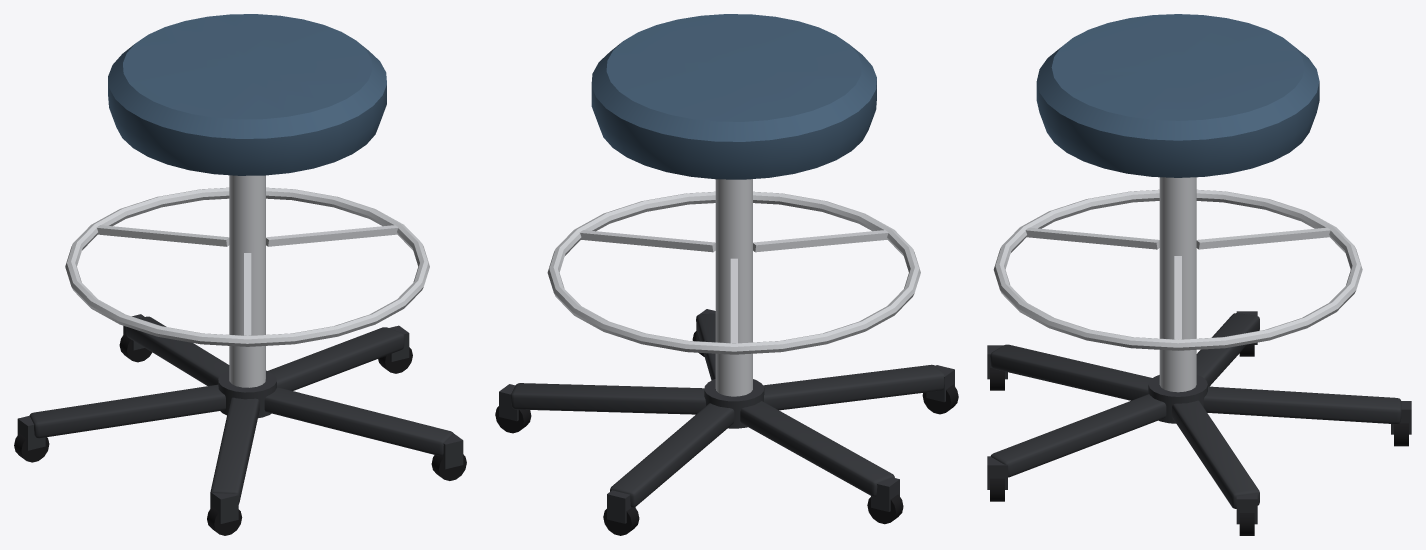
File: operator-stool.glb
3 renders of one model, left to right at view 1: azimuth 30°, elevation 25°; view 2: azimuth 150°, elevation 25°; view 3: azimuth 270°, elevation 25°, orthographic. The views are drawn at different scales.
Parts seen in each view (by area): view 1: Doctor's stool: 5-star base on castors, gas column, round se (×4); view 2: Doctor's stool: 5-star base on castors, gas column, round se (×4); view 3: Doctor's stool: 5-star base on castors, gas column, round se (×4).
Part boxes in pixels (x1,y1,x2,y2): Doctor's stool: 5-star base on castors, gas column, round se (×4): [14, 14, 466, 535]; Doctor's stool: 5-star base on castors, gas column, round se (×4): [495, 14, 958, 535]; Doctor's stool: 5-star base on castors, gas column, round se (×4): [987, 14, 1411, 535].
Size of the model in its own units: 0.6146 by 0.5645 by 0.5707.
